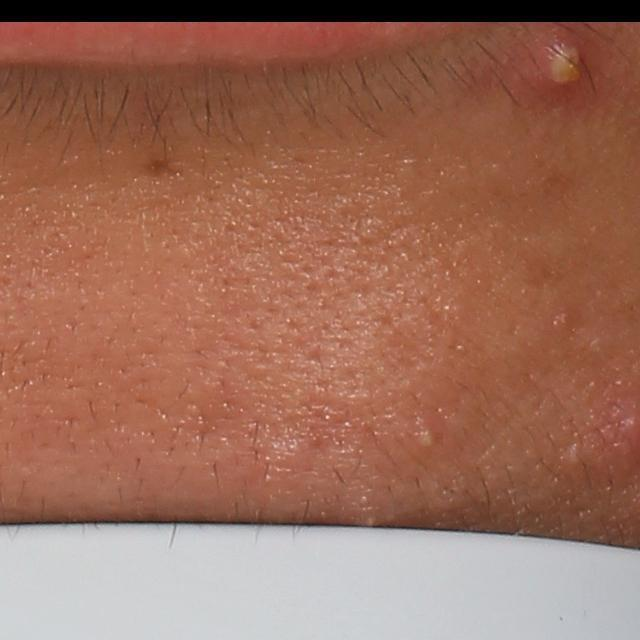pustule: (522, 30, 602, 97), (407, 416, 446, 454)
